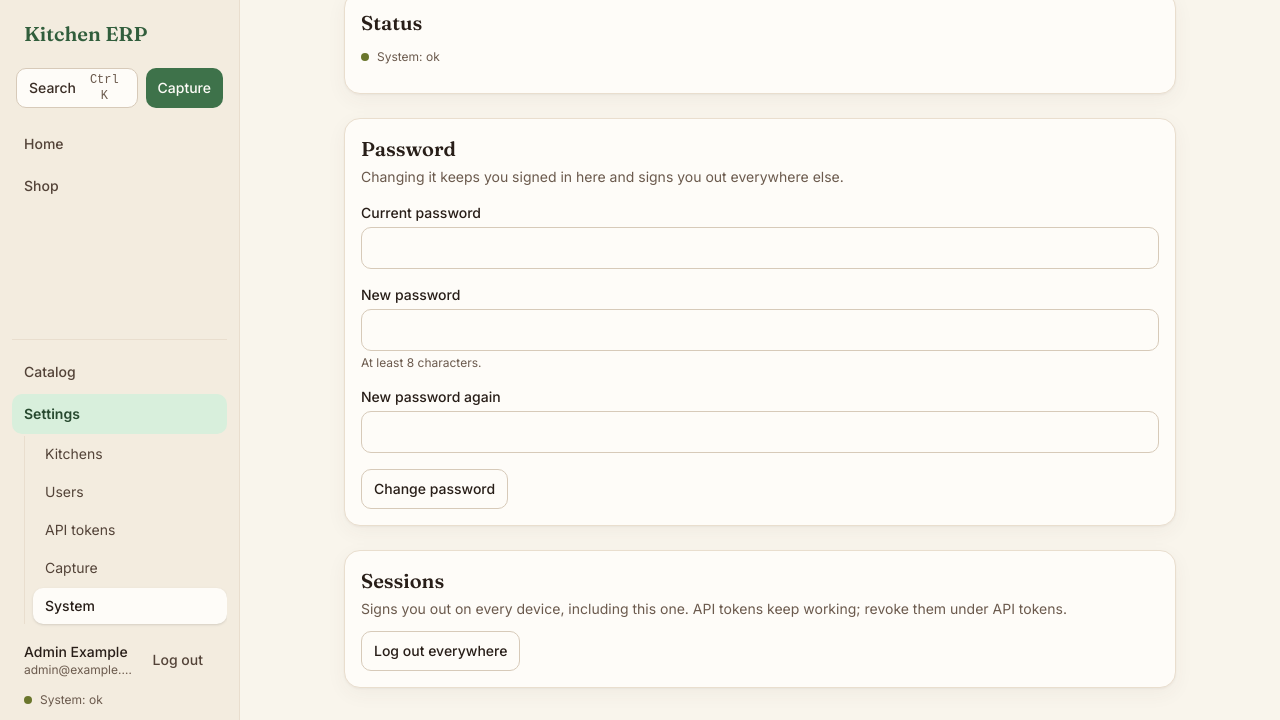
it: navigation sections (UI-2.1, UI-2.2) › moves Log out everywhere to Settings → System
(page scrolled)
Click the button "Log out everywhere" at (441, 651), box [361,631,520,671]
(page scrolled)
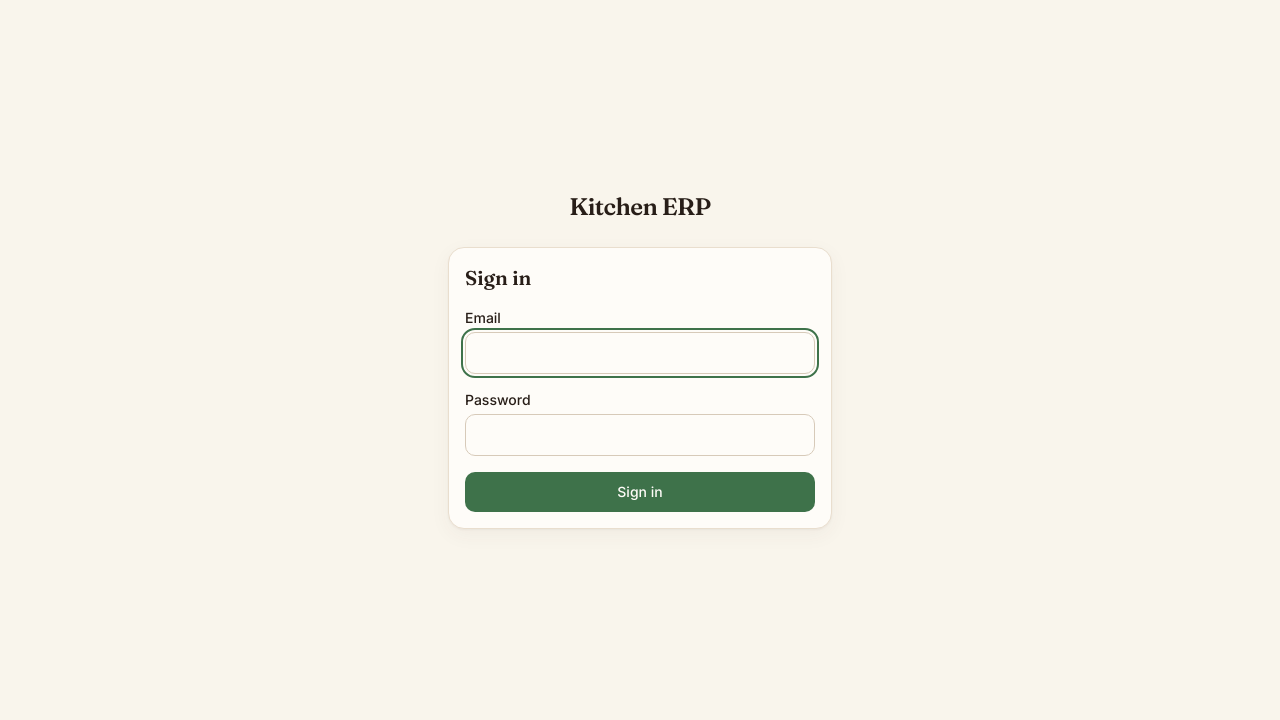
Expected: the heading "Sign in" is shown, [465,265,532,290]
